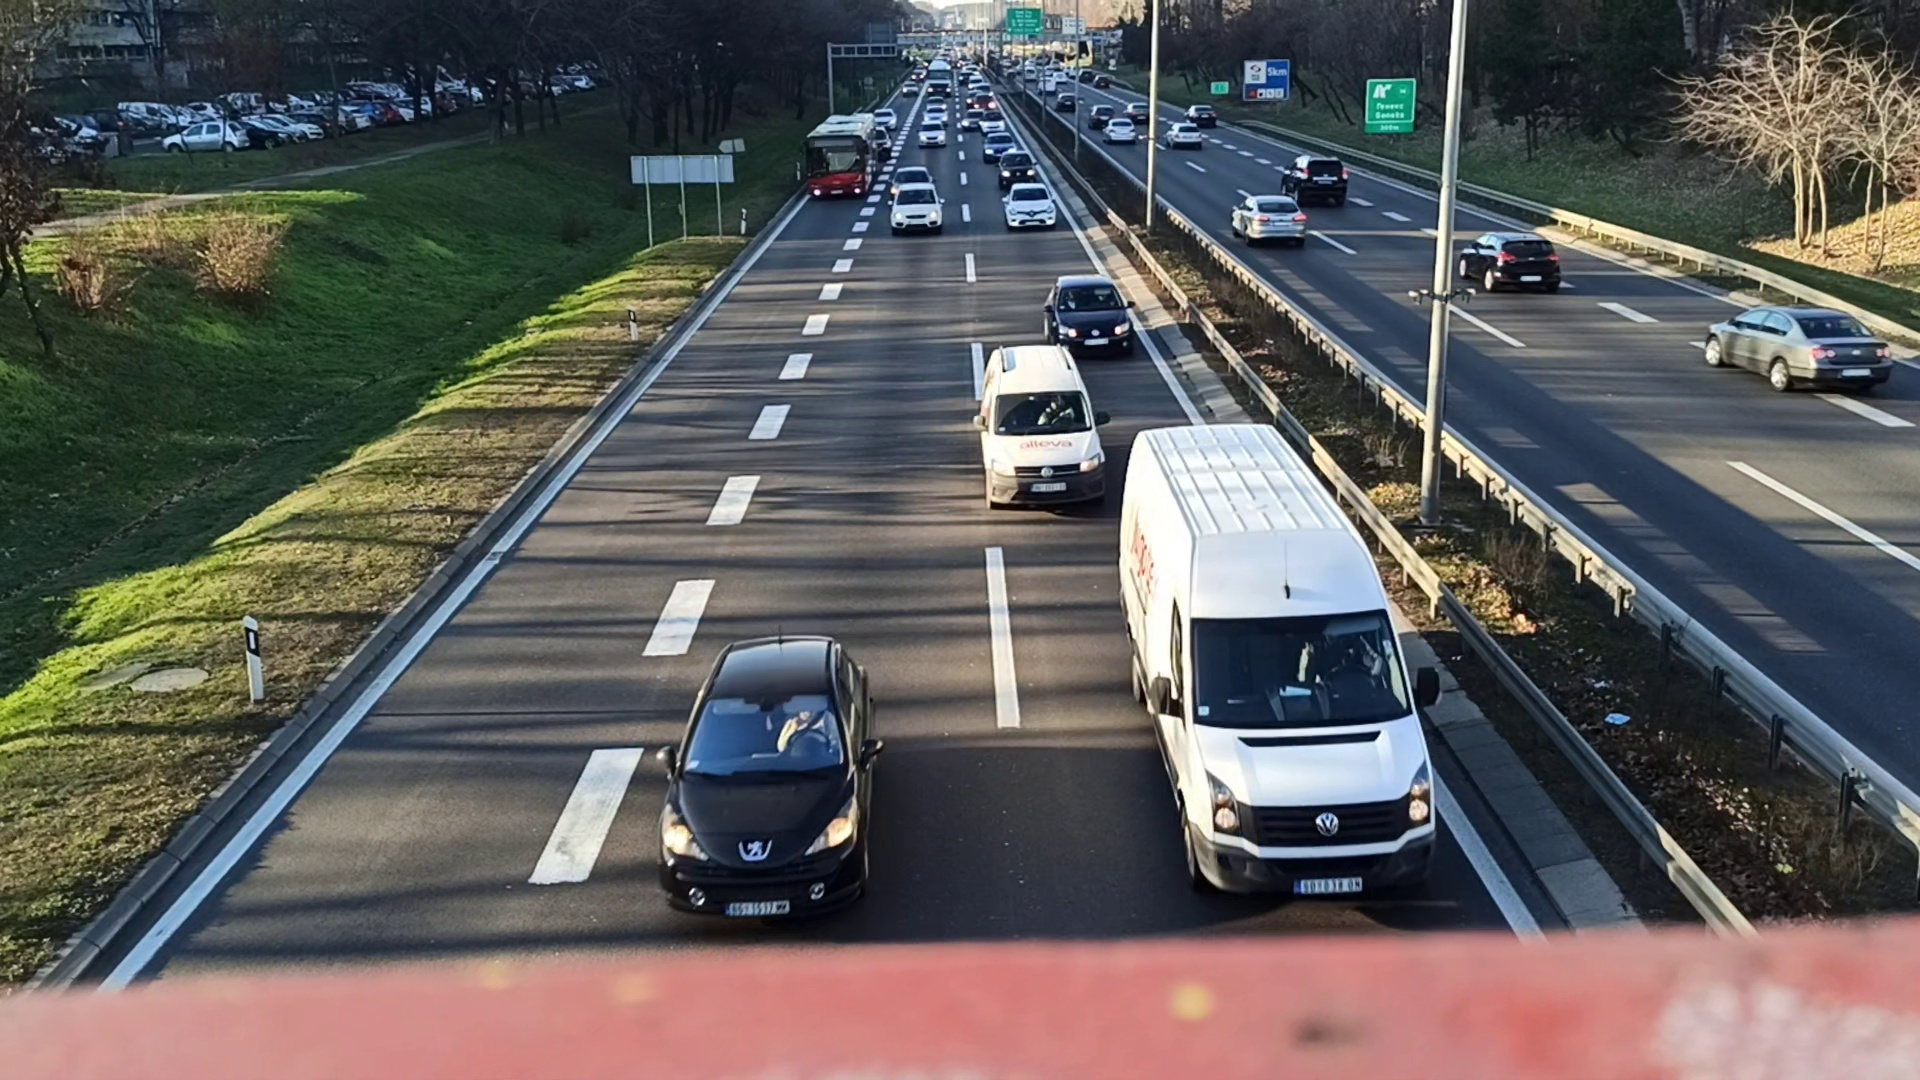bus: (804, 113, 876, 198)
car: (653, 630, 870, 923), (1702, 301, 1894, 398), (1044, 274, 1131, 357), (1460, 229, 1560, 294), (1232, 193, 1307, 244), (1279, 152, 1346, 208), (889, 185, 942, 233), (1004, 181, 1055, 225), (1002, 152, 1036, 185), (1164, 121, 1204, 148), (981, 133, 1017, 160), (918, 121, 945, 146)
van: (1120, 433, 1437, 905), (976, 345, 1106, 512)
